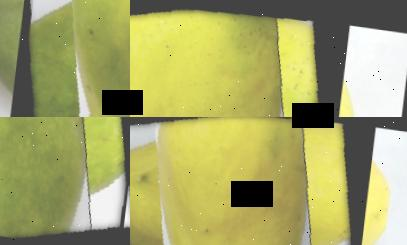PartiallyRipe: (130, 0, 341, 117), (0, 117, 130, 245), (15, 0, 130, 117)
Ripe: (130, 117, 368, 245)
